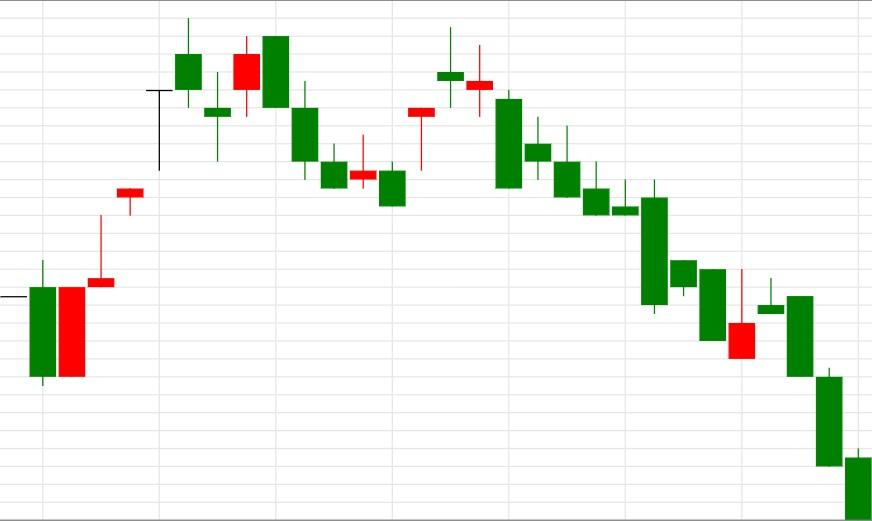three_black_crows_fall: (203, 36, 348, 189)
